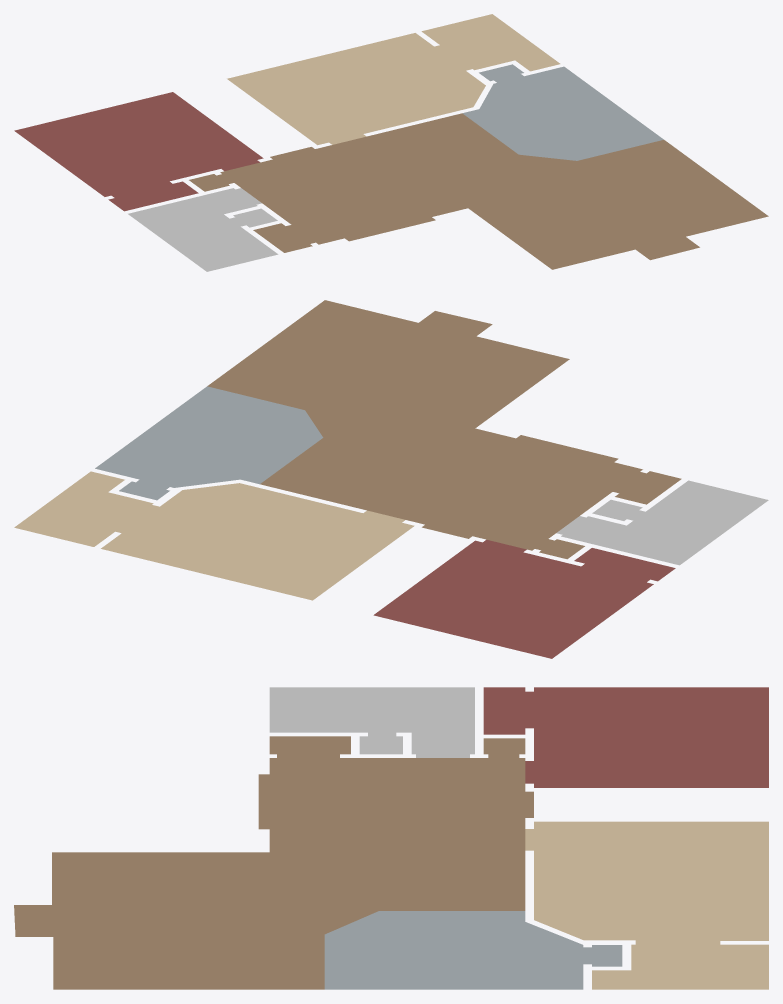
File: house_floor.fbx
3 renders of one model, top to bottom at view 1: azimuth 30°, elevation 25°; view 2: azimuth 150°, elevation 25°; view 3: azimuth 270°, elevation 25°, orthographic. The views are drawn at different scales.
Parts seen in each view (by area): view 1: Floor; view 2: Floor; view 3: Floor.
Part boxes in pixels (x1,y1,x2,y2): Floor: (14, 14, 768, 271); Floor: (14, 300, 768, 658); Floor: (14, 687, 768, 989).
Size of the model in its own units: 1061 by 4.64e-05 by 1005.
